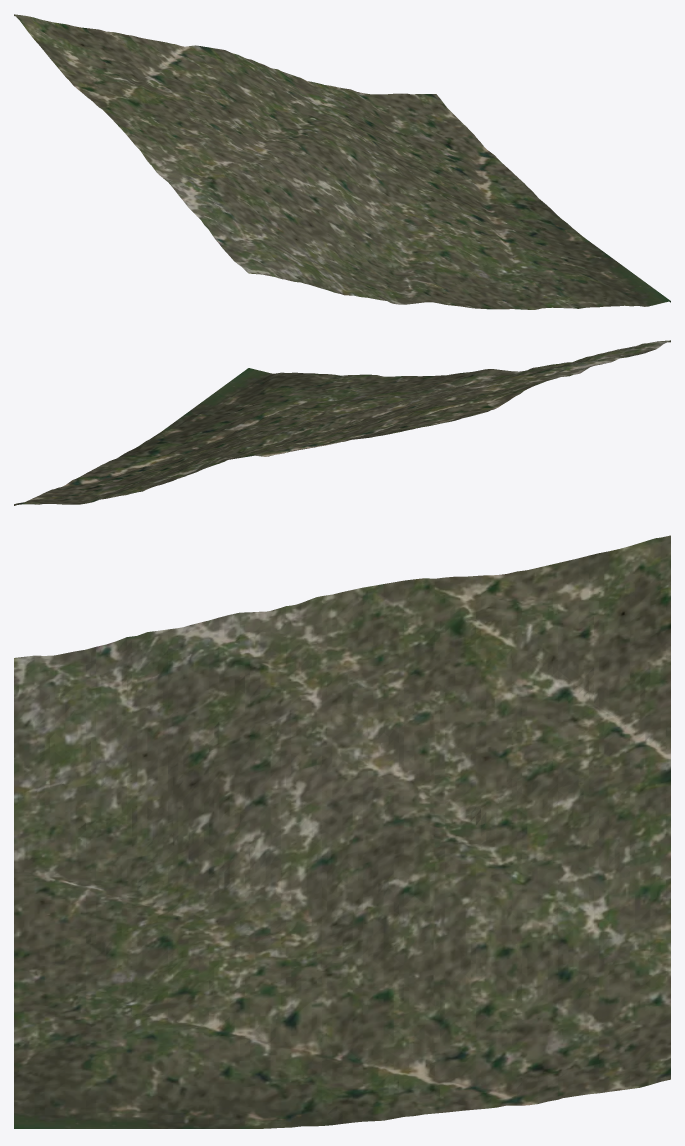
3 renders of one model, top to bottom at view 1: azimuth 30°, elevation 25°; view 2: azimuth 150°, elevation 25°; view 3: azimuth 270°, elevation 25°, orthographic. The views are drawn at different scales.
Size of the model in its own units: 250 by 124 by 241.
Materials: 1 (1 with a texture image).
